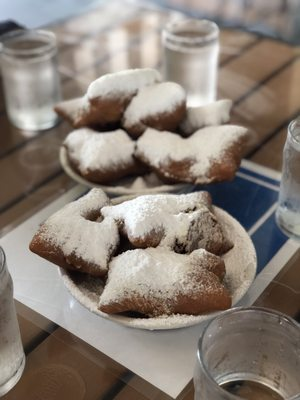pizza: (160, 16, 220, 106)
